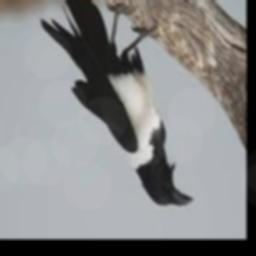Crow: (39, 0, 194, 207)
